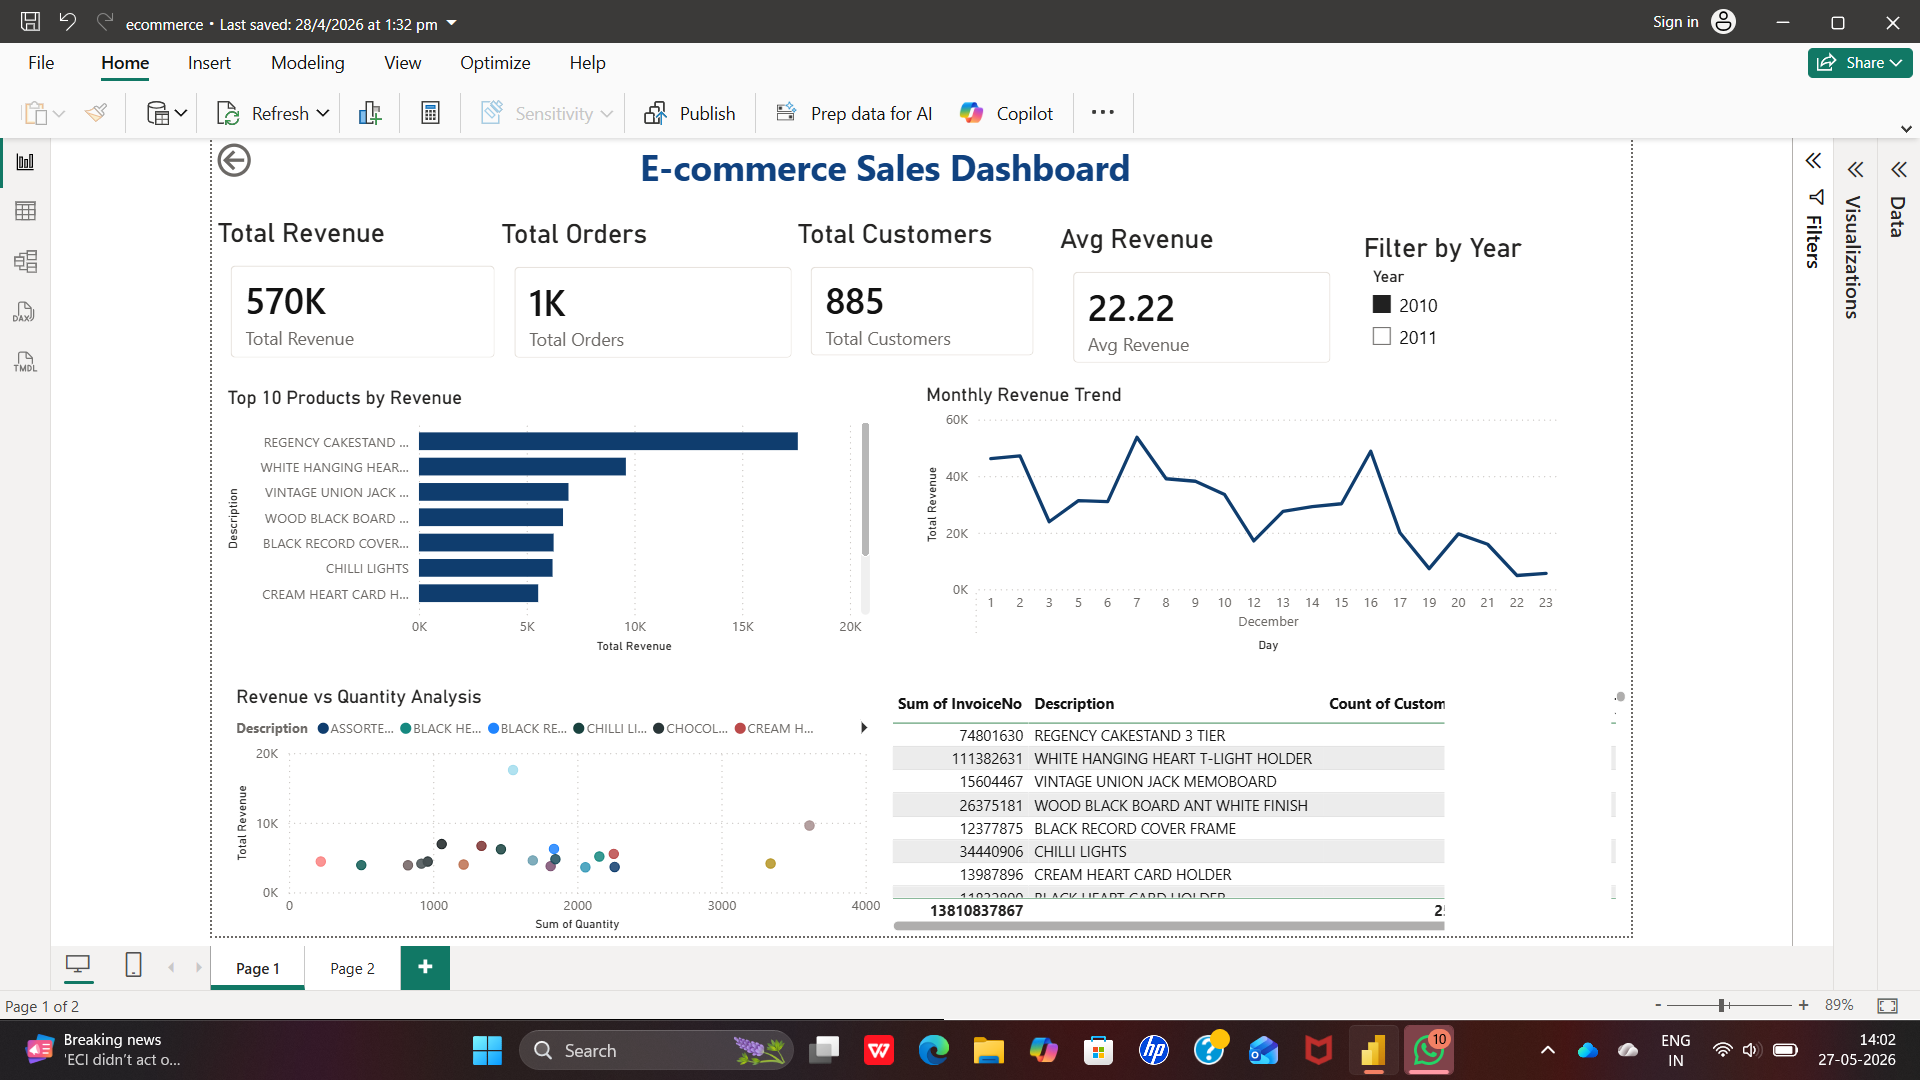

What the dashboard file says about the page in this screenshot:
{"tool":"powerbi","page":{"name":"Page 1","canvas":[1280,720],"ordinal":0},"visuals":[{"type":"cardVisual","title":"Total Revenue","fields":{"Data":["cleaned_data.Total Revenue"]},"box":[0,71.4,272.9,144.3],"z":0},{"type":"cardVisual","title":"Total Orders","fields":{"Data":["cleaned_data.Total Orders"]},"box":[255.8,71.7,284.2,144.2],"z":1000},{"type":"cardVisual","title":"Avg Revenue","fields":{"Data":["cleaned_data.Avg Revenue"]},"box":[760,76.7,266.7,143.3],"z":2000},{"type":"cardVisual","title":"Total Customers","fields":{"Data":["cleaned_data.Total Customers"]},"box":[522.5,71.7,235.8,141.7],"z":3000},{"type":"clusteredBarChart","title":"Top 10 Products by Revenue ","fields":{"Y":["cleaned_data.Total Revenue"],"Category":["cleaned_data.Description"]},"box":[8.6,223.8,589.4,244.6],"z":4000},{"type":"lineChart","title":"Monthly Revenue Trend","fields":{"Y":["cleaned_data.Total Revenue"],"Category":["cleaned_data.InvoiceDate.Variation.Date Hierarchy.Month","cleaned_data.InvoiceDate.Variation.Date Hierarchy.Day"]},"box":[639.5,221.3,579.6,247],"z":5000},{"type":"scatterChart","title":"Revenue vs Quantity Analysis","fields":{"X":["Sum(cleaned_data.Quantity)"],"Y":["cleaned_data.Total Revenue"],"Category":["cleaned_data.StockCode"],"Series":["cleaned_data.Description"]},"box":[16.9,493.7,590.6,226.6],"z":6000},{"type":"tableEx","fields":{"Values":["Sum(cleaned_data.InvoiceNo)","cleaned_data.Description","CountNonNull(cleaned_data.CustomerID)","Sum(cleaned_data.Quantity)","cleaned_data.Total Revenue"]},"box":[607,494.2,673.3,225.6],"z":7000},{"type":"actionButton","box":[0,0,100,40],"z":8000},{"type":"slicer","title":"Filter by Year","fields":{"Values":["cleaned_data.InvoiceDate.Variation.Date Hierarchy.Year"]},"box":[1033.3,84.2,204.2,120.8],"z":9000},{"type":"textbox","box":[1111,456,150,264],"z":10000},{"type":"textbox","box":[374.3,0,465.7,77.1],"z":12000}]}

Visuals, with their boxes on the page's 1280x720 design canvas (x1, y1, x2, y2). These are canvas units, not pixel positions in the 1920x1080 screenshot, which may show the page scaled, cropped or inside an application window:
"Total Revenue" cardVisual: (x1=0, y1=71, x2=273, y2=216)
"Total Orders" cardVisual: (x1=256, y1=72, x2=540, y2=216)
"Avg Revenue" cardVisual: (x1=760, y1=77, x2=1027, y2=220)
"Total Customers" cardVisual: (x1=522, y1=72, x2=758, y2=213)
"Top 10 Products by Revenue " clusteredBarChart: (x1=9, y1=224, x2=598, y2=468)
"Monthly Revenue Trend" lineChart: (x1=640, y1=221, x2=1219, y2=468)
"Revenue vs Quantity Analysis" scatterChart: (x1=17, y1=494, x2=608, y2=720)
tableEx - Sum(cleaned_data.InvoiceNo) x cleaned_data.Description: (x1=607, y1=494, x2=1280, y2=720)
actionButton: (x1=0, y1=0, x2=100, y2=40)
"Filter by Year" slicer: (x1=1033, y1=84, x2=1238, y2=205)
textbox: (x1=1111, y1=456, x2=1261, y2=720)
textbox: (x1=374, y1=0, x2=840, y2=77)
